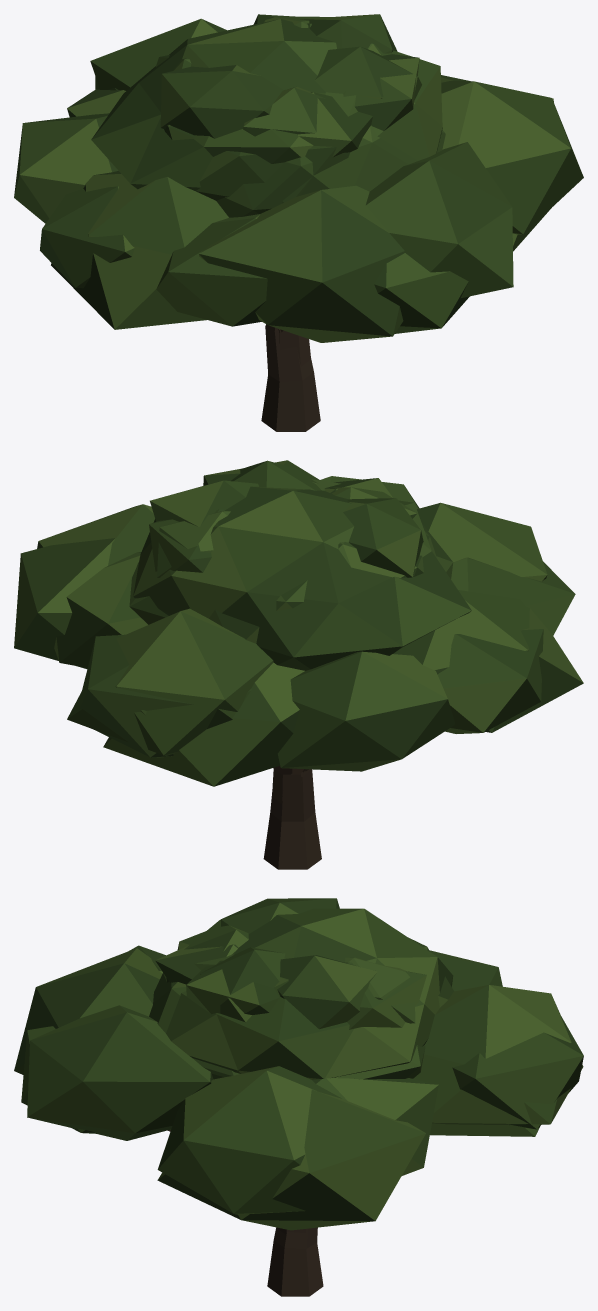
File: oak.glb
The picture shows the model from 3 angles, top to bottom: view 1: azimuth 30°, elevation 25°; view 2: azimuth 150°, elevation 25°; view 3: azimuth 270°, elevation 25°; orthographic projection. The views are drawn at different scales.
Parts seen in each view (by area): view 1: oak_v0, oak_v1, oak_v2; view 2: oak_v0, oak_v1, oak_v2; view 3: oak_v0, oak_v1, oak_v2.
Part boxes in pixels (<box>): oak_v0: <box>14,14,553,431</box>; oak_v1: <box>40,14,583,342</box>; oak_v2: <box>51,46,469,366</box>; oak_v0: <box>14,460,575,869</box>; oak_v1: <box>37,478,547,803</box>; oak_v2: <box>54,460,583,786</box>; oak_v0: <box>27,898,583,1296</box>; oak_v1: <box>14,937,583,1230</box>; oak_v2: <box>21,920,540,1234</box>.
Bounding box in the file's own units: 12.78 × 9 × 12.97.
